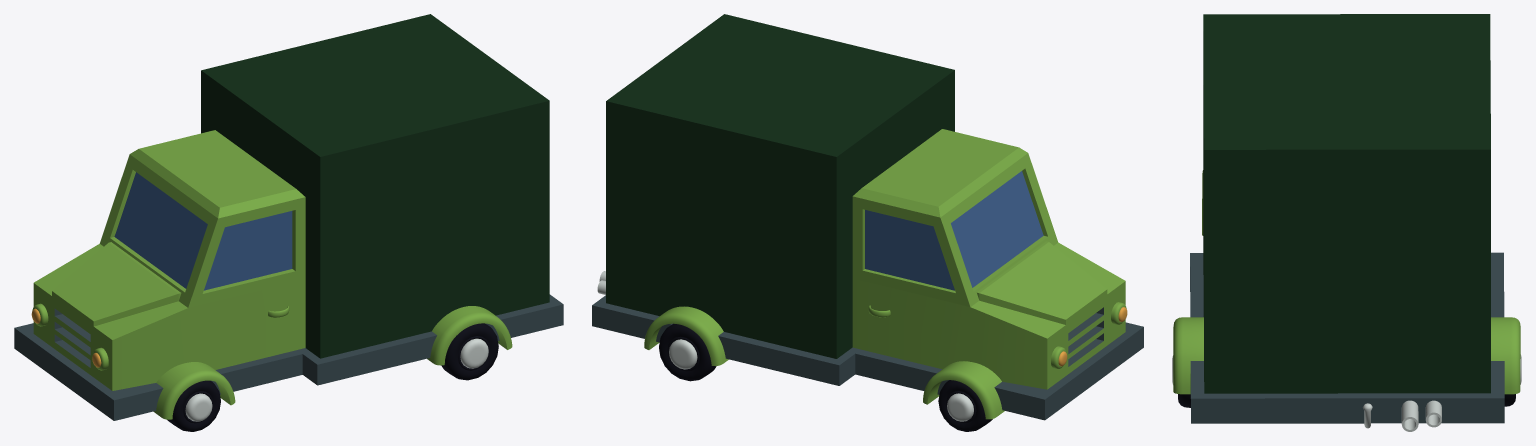
File: F_Car.fbx
3 renders of one model, left to right at view 1: azimuth 30°, elevation 25°; view 2: azimuth 150°, elevation 25°; view 3: azimuth 270°, elevation 25°, orthographic. The views are drawn at different scales.
Parts seen in each view (by area): view 1: F_Car_01; view 2: F_Car_01; view 3: F_Car_01.
Boxes of the visible parts, bbox=[...] form: F_Car_01: bbox=[14, 14, 563, 431]; F_Car_01: bbox=[592, 14, 1143, 431]; F_Car_01: bbox=[1172, 14, 1521, 431].
Bounding box in the file's own units: 748 × 389 × 404.
